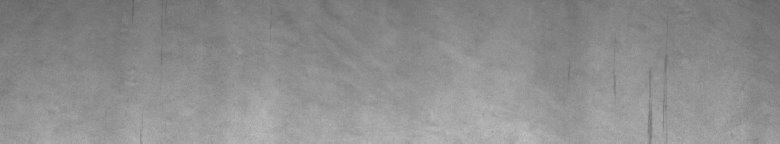ka: (613, 55, 667, 136)
